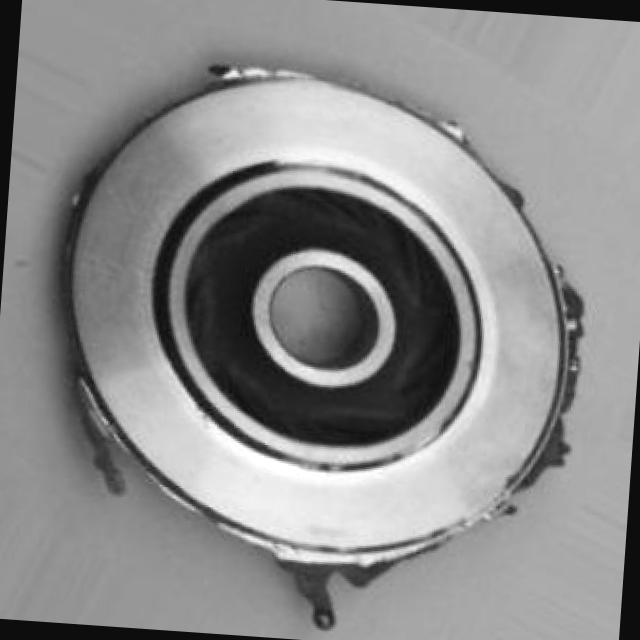Defect: (514, 424, 581, 476)
